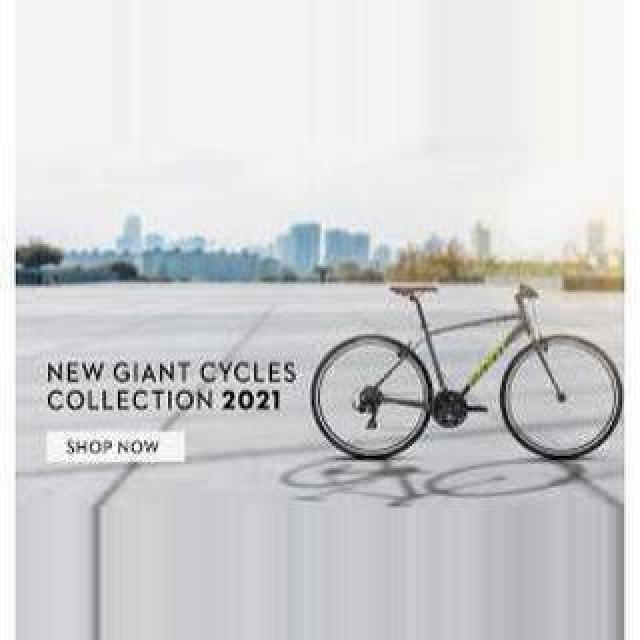Person: (313, 280, 623, 464)
